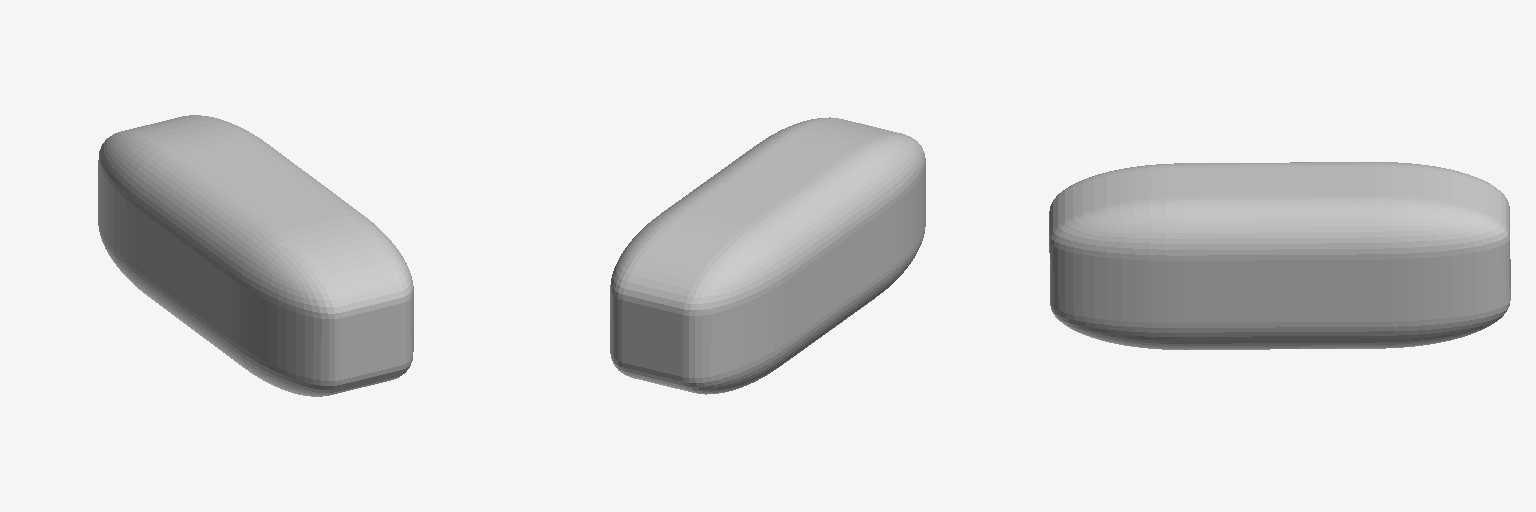
The model's file is thigh.obj.
The picture shows the model from 3 angles: view 1: azimuth 30°, elevation 25°; view 2: azimuth 150°, elevation 25°; view 3: azimuth 270°, elevation 25°; orthographic projection.
Visible parts, largest first — view 1: thigh_Cube.005; view 2: thigh_Cube.005; view 3: thigh_Cube.005.
Part boxes in pixels (x1,y1,x2,y2): thigh_Cube.005: (98,115,413,396); thigh_Cube.005: (610,117,925,394); thigh_Cube.005: (1049,162,1510,349).
Size of the model in its own units: 0.2393 by 0.2352 by 0.659.